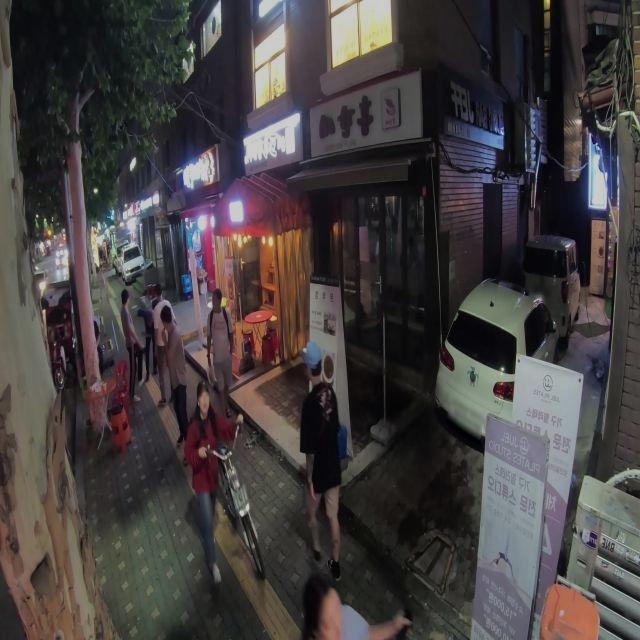non-fight: (183, 377, 256, 582), (300, 352, 349, 583), (154, 301, 192, 445), (120, 288, 143, 400)
